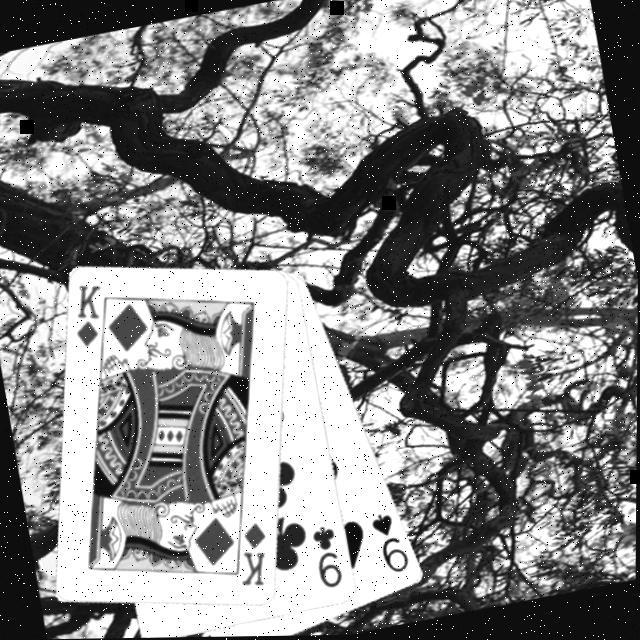9C: (310, 519, 350, 591)
9S: (370, 505, 417, 579)
KD: (230, 515, 280, 592), (66, 275, 115, 350)
